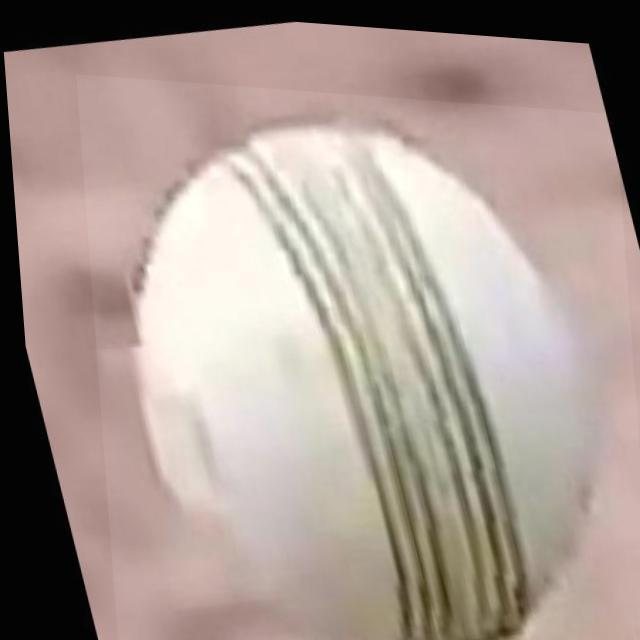-: (75, 73, 640, 640)
